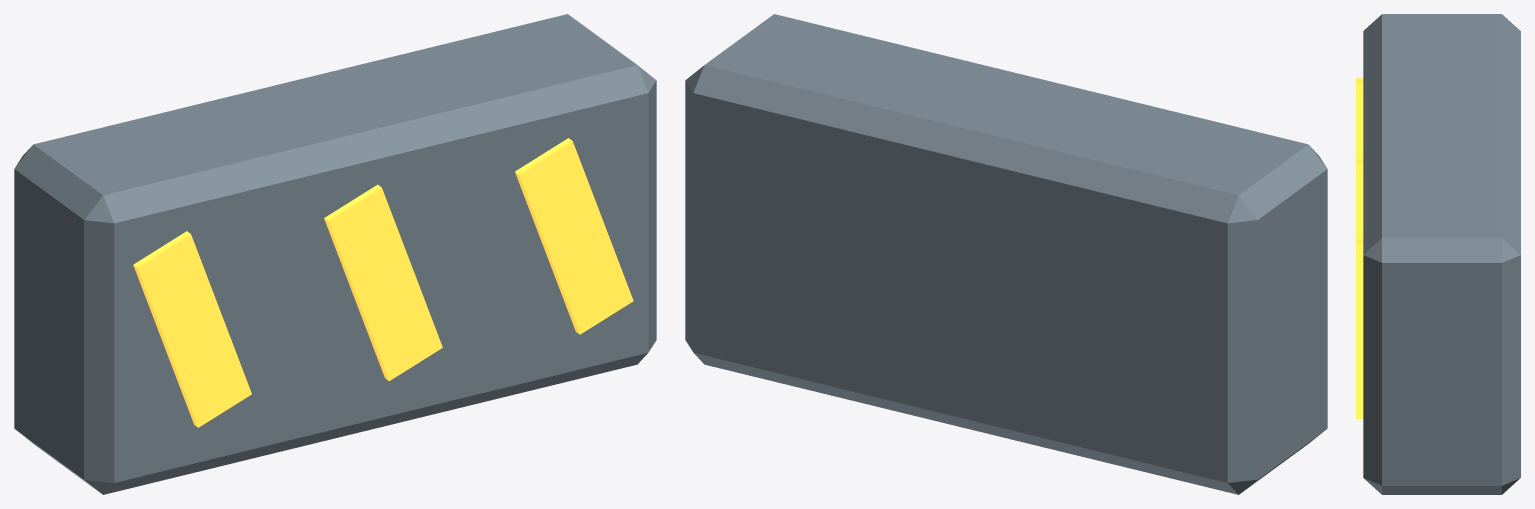
Rendered from SM_ENV_Street_003_Barricade.glb.
The picture shows the model from 3 angles, left to right: view 1: azimuth 30°, elevation 25°; view 2: azimuth 150°, elevation 25°; view 3: azimuth 270°, elevation 25°; orthographic projection. The views are drawn at different scales.
Parts seen in each view (by area): view 1: SM_ENV_Street_003_Barricade; view 2: SM_ENV_Street_003_Barricade; view 3: SM_ENV_Street_003_Barricade.
Part boxes in pixels (x1,y1,x2,y2): SM_ENV_Street_003_Barricade: [14, 14, 656, 494]; SM_ENV_Street_003_Barricade: [685, 14, 1327, 494]; SM_ENV_Street_003_Barricade: [1356, 14, 1520, 494].
Size of the model in its own units: 1.8 by 0.9 by 0.5225.
